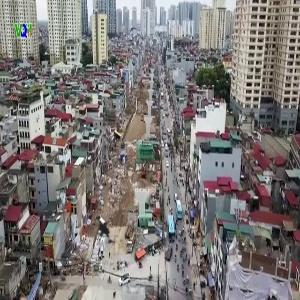drone: (83, 204, 135, 256)
